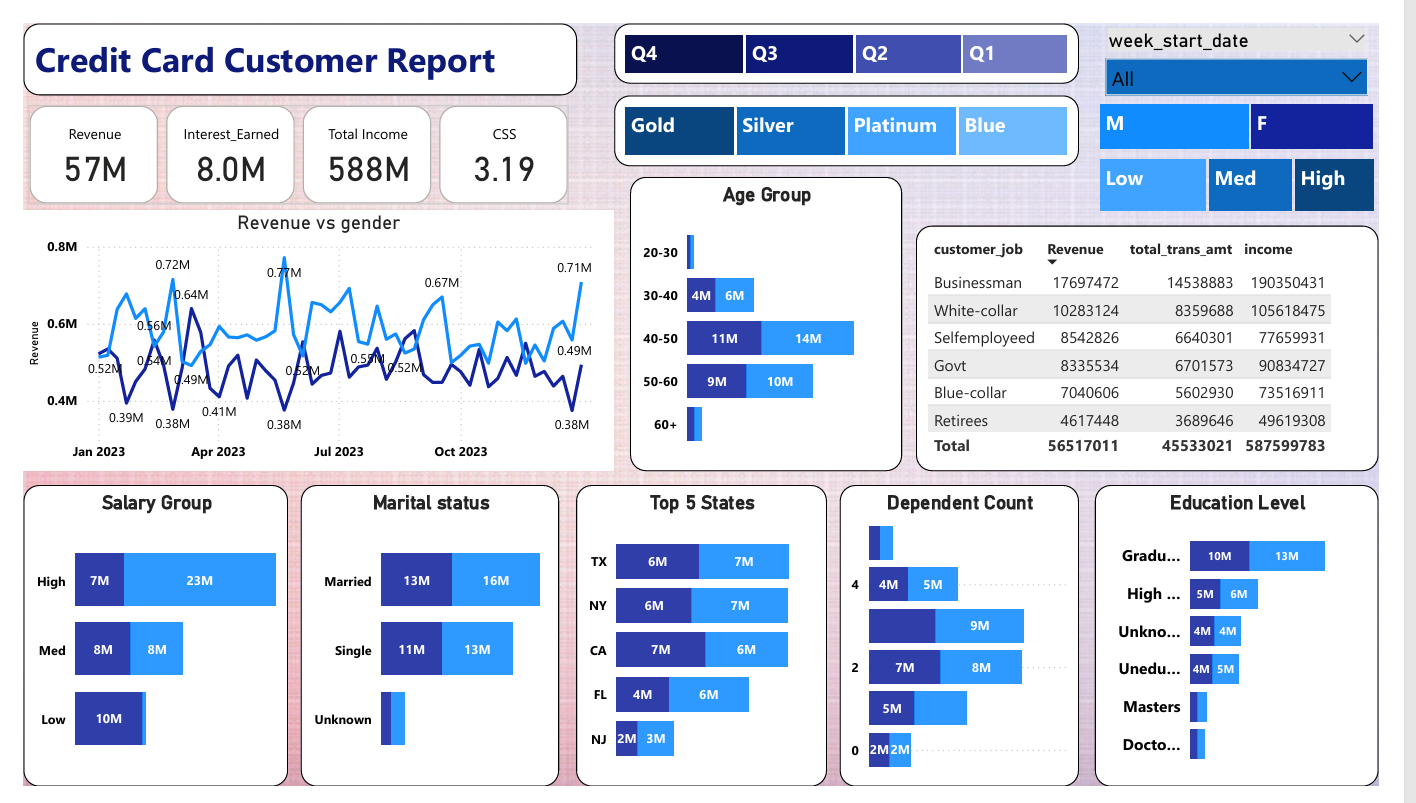

The dashboard page shown, as its layout file describes it:
{"tool":"powerbi","page":{"name":"CUSTOMER REPORT","canvas":[1280,720],"ordinal":1},"visuals":[{"type":"textbox","box":[0,0,523.3,68.4],"z":0},{"type":"barChart","title":"Salary Group","fields":{"Y":["Sum(public cc_detail.Revenue)"],"Category":["public cust_detail.IncomeGroup"],"Series":["public cust_detail.gender"]},"box":[0,435.8,249.7,284.7],"z":1000},{"type":"tableEx","fields":{"Values":["public cust_detail.customer_job","Sum(public cc_detail.Revenue)","Sum(public cc_detail.total_trans_amt)","Sum(public cust_detail.income)"]},"box":[843,190.9,437.4,232.2],"z":2000},{"type":"slicer","fields":{"Values":["public cc_detail.week_start_date"]},"box":[1011.6,0,268.8,81.1],"z":3000},{"type":"treemap","fields":{"Group":["public cust_detail.gender"],"Values":["Sum(public cc_detail.Revenue)"]},"box":[1011.6,71.6,268.8,52.5],"z":4000},{"type":"treemap","fields":{"Group":["public cust_detail.IncomeGroup"],"Values":["CountNonNull(public cc_detail.client_num)"]},"box":[1011.6,124.1,268.8,58.9],"z":5000},{"type":"treemap","fields":{"Values":["Avg(public cc_detail.client_num)"],"Group":["public cc_detail.qtr"]},"box":[558.3,0,439,57.3],"z":6000},{"type":"treemap","fields":{"Group":["public cc_detail.card_category"],"Values":["Min(public cc_detail.client_num)"]},"box":[558.3,68.4,439,66.8],"z":7000},{"type":"cardVisual","fields":{"Data":["Sum(public cc_detail.Revenue)","Sum(public cc_detail.interest_earned)","Sum(public cust_detail.income)","Avg(public cust_detail.cust_satisfaction_score)"]},"box":[0,71.6,523.3,105],"z":8000},{"type":"lineChart","title":"Revenue vs gender","fields":{"Category":["public cc_detail.week_start_date.Variation.Date Hierarchy.Year","public cc_detail.week_start_date.Variation.Date Hierarchy.Month","public cc_detail.week_start_date.Variation.Date Hierarchy.Day"],"Y":["Sum(public cc_detail.Revenue)"],"Series":["public cust_detail.gender"]},"box":[0,176.6,558.3,246.5],"z":9000},{"type":"barChart","title":"Marital status","fields":{"Y":["Sum(public cc_detail.Revenue)"],"Category":["public cust_detail.marital_status"],"Series":["public cust_detail.gender"]},"box":[262.5,435.8,243.4,284.7],"z":11000},{"type":"barChart","title":"Top 5 States","fields":{"Y":["Sum(public cc_detail.Revenue)"],"Category":["public cust_detail.state_cd"],"Series":["public cust_detail.gender"]},"box":[521.7,435.8,237,284.7],"z":12000},{"type":"barChart","title":"Dependent Count","fields":{"Y":["Sum(public cc_detail.Revenue)"],"Category":["public cust_detail.dependent_count"],"Series":["public cust_detail.gender"]},"box":[771.4,435.8,225.9,284.7],"z":13000},{"type":"barChart","title":"Education Level","fields":{"Y":["Sum(public cc_detail.Revenue)"],"Category":["public cust_detail.education_level"],"Series":["public cust_detail.gender"]},"box":[1011.6,435.8,268.8,284.7],"z":14000},{"type":"barChart","title":"Age Group","fields":{"Y":["Sum(public cc_detail.Revenue)"],"Category":["public cust_detail.Age Group"],"Series":["public cust_detail.gender"]},"box":[572.6,144.7,257.7,278.4],"z":15000}]}

Visuals, with their boxes in screenshot pixels (x1, y1, x2, y2), scaled from the page's 1280x720 canvas onto the 1416x803 screenshot:
textbox: [left=0, top=0, right=579, bottom=76]
"Salary Group" barChart: [left=0, top=486, right=276, bottom=802]
tableEx - public cust_detail.customer_job x Sum(public cc_detail.Revenue): [left=933, top=213, right=1415, bottom=472]
slicer - public cc_detail.week_start_date: [left=1119, top=0, right=1415, bottom=90]
treemap - public cust_detail.gender x Sum(public cc_detail.Revenue): [left=1119, top=80, right=1415, bottom=138]
treemap - public cust_detail.IncomeGroup x CountNonNull(public cc_detail.client_num): [left=1119, top=138, right=1415, bottom=204]
treemap - Avg(public cc_detail.client_num) x public cc_detail.qtr: [left=618, top=0, right=1103, bottom=64]
treemap - public cc_detail.card_category x Min(public cc_detail.client_num): [left=618, top=76, right=1103, bottom=151]
cardVisual - Sum(public cc_detail.Revenue) x Sum(public cc_detail.interest_earned): [left=0, top=80, right=579, bottom=197]
"Revenue vs gender" lineChart: [left=0, top=197, right=618, bottom=472]
"Marital status" barChart: [left=290, top=486, right=560, bottom=802]
"Top 5 States" barChart: [left=577, top=486, right=839, bottom=802]
"Dependent Count" barChart: [left=853, top=486, right=1103, bottom=802]
"Education Level" barChart: [left=1119, top=486, right=1415, bottom=802]
"Age Group" barChart: [left=633, top=161, right=919, bottom=472]
